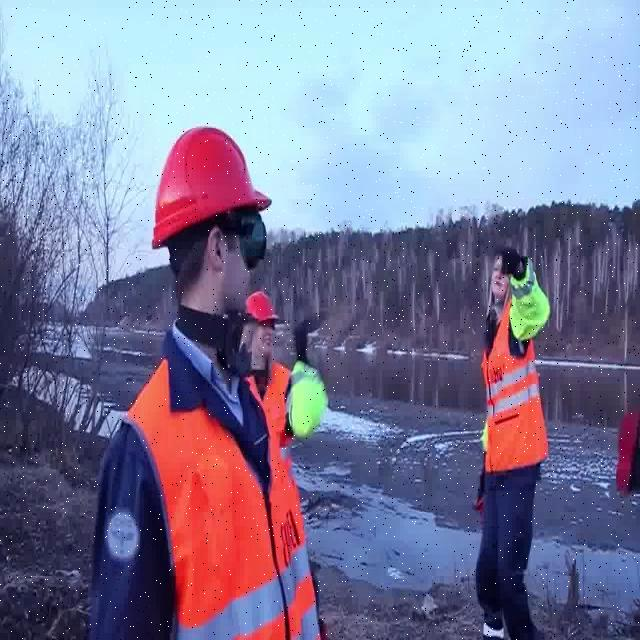Hard_hat: (141, 121, 278, 246), (241, 289, 280, 328)
Vest: (131, 348, 303, 639), (484, 310, 547, 479)
